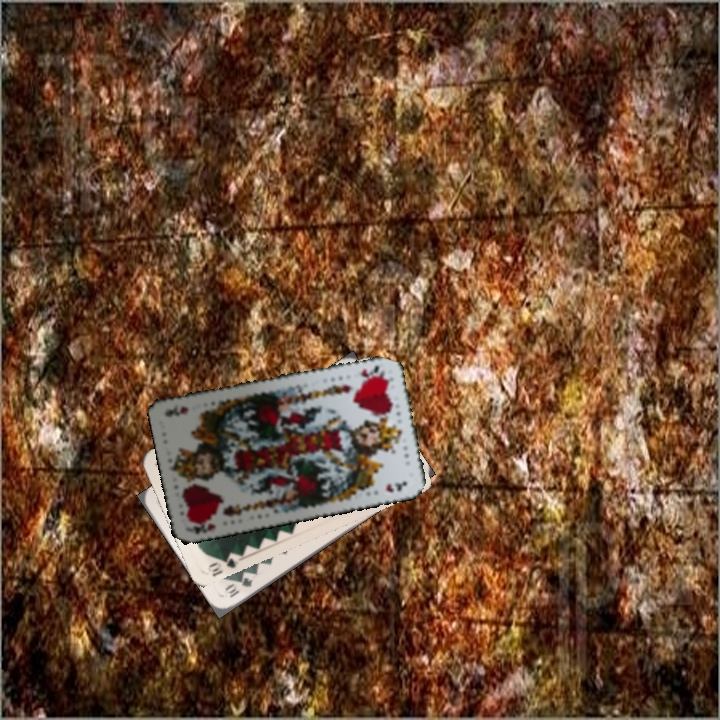G10: (204, 549, 243, 578), (220, 573, 255, 601)
HK: (185, 518, 218, 537), (356, 361, 386, 380)
